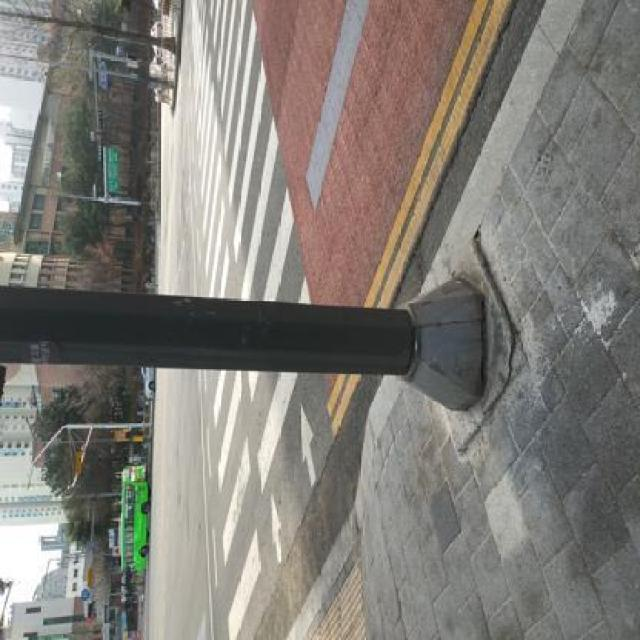pole: (0, 262, 506, 416)
